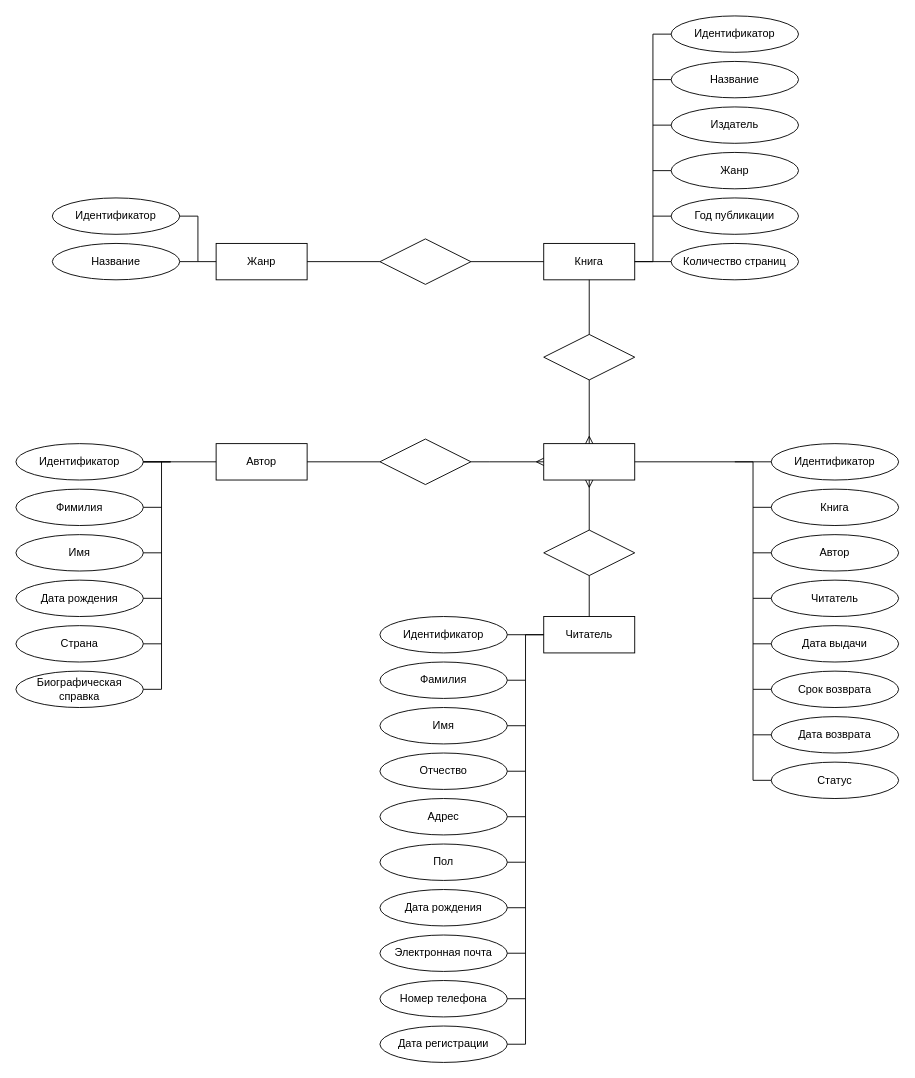
Some shapes in this 915 by 1078 pixel diagram are drawn without their labels. Each missing label, with the centre of its shape:
"Берёт" belongs at point 589,552.
"Выдача" belongs at point 589,461.
"Выдаёт" belongs at point 425,461.
"Принадлежит" belongs at point 425,261.
"Содержится" belongs at point 589,357.
